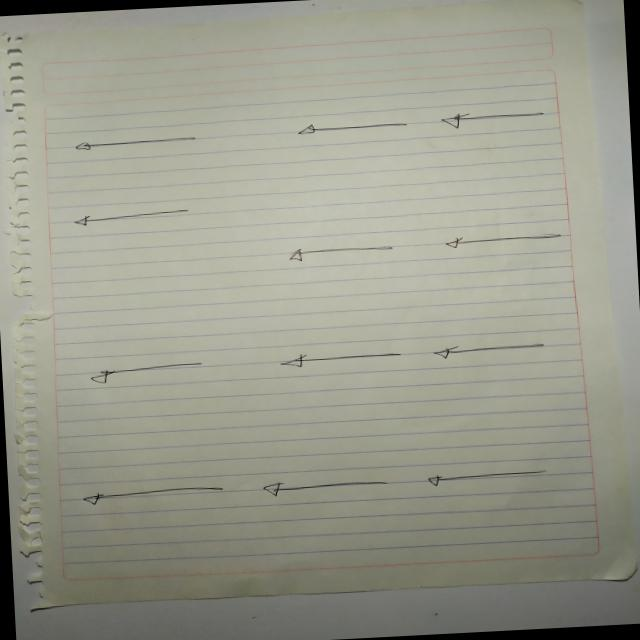arrow_line_left: (73, 474, 235, 515), (272, 340, 418, 378), (431, 222, 580, 256), (78, 354, 218, 390), (276, 234, 413, 270), (426, 332, 560, 368), (258, 470, 398, 502), (420, 462, 560, 494), (430, 104, 558, 134), (61, 128, 208, 154), (66, 205, 200, 230), (286, 118, 417, 139)
